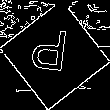P_S: (34, 28, 76, 82)
